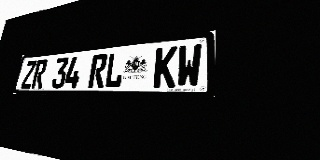3: (51, 57, 69, 88)
4: (64, 56, 83, 88)
K: (153, 46, 178, 87)
L: (104, 51, 125, 88)
R: (88, 53, 108, 88), (31, 59, 48, 88)
W: (176, 44, 202, 87)
Z: (21, 60, 37, 88)
